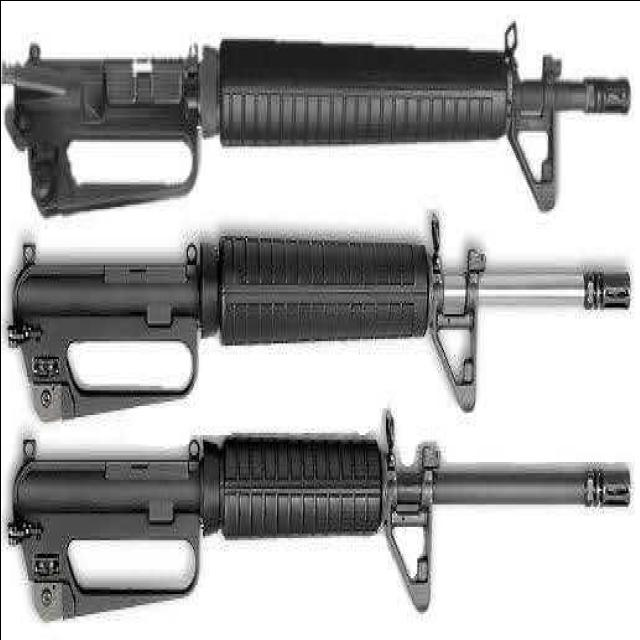heavyweapon: (1, 381, 640, 610), (1, 2, 627, 214), (1, 216, 640, 395)
